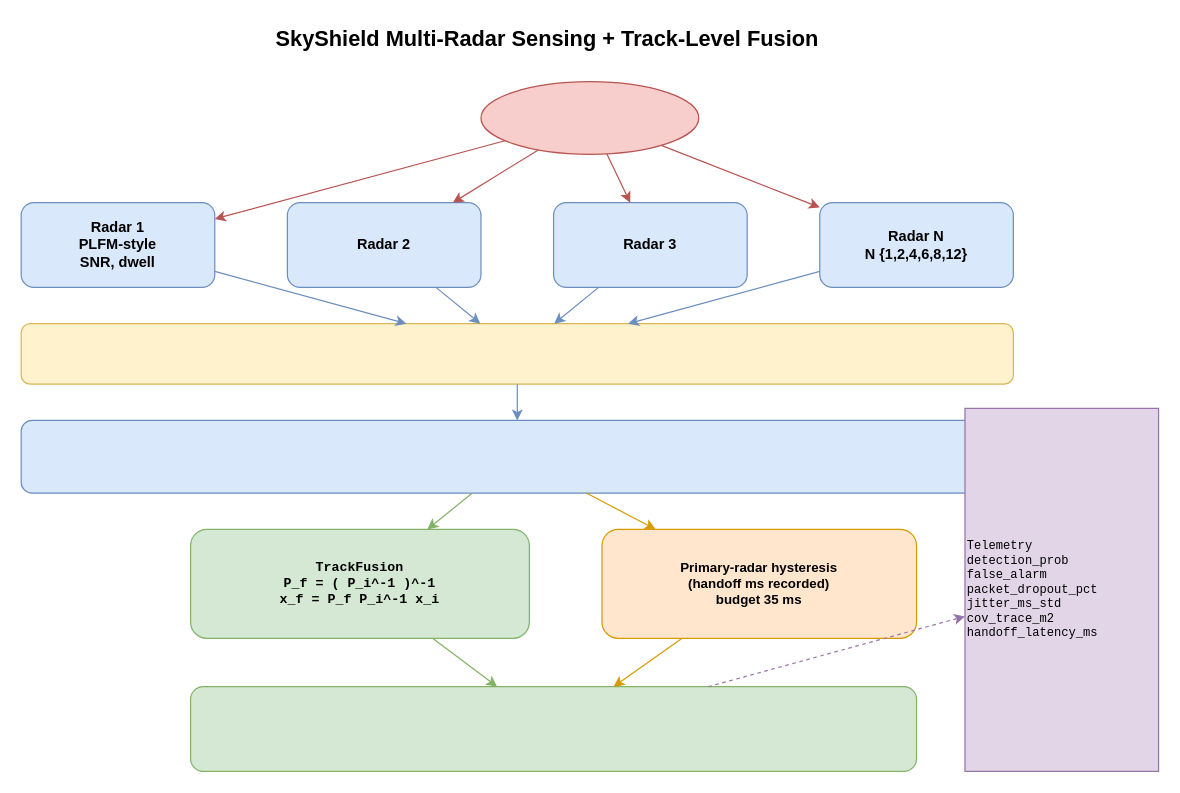
Image size: 1180x793. Some labels were removed from this diagram. The centre of each missing label's shape, as x and y in pixels:
Adversarial UAV v, alt, maneuver_g: [589,117]
FusedTrack shrunk cov & velocity & confidence + per-target handoff latency: [553,728]
Per-radar track (KalmanCV / IMM) + M-of-N confirmation (3-of-5): [516,456]
RadarPacket stream (per radar) z = target + N(0, R) + jitter + packet dropout: [516,353]
